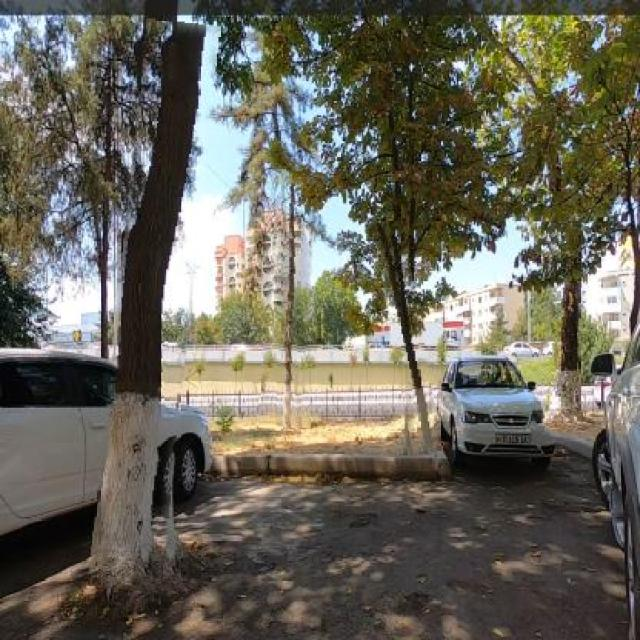tree trunk: (102, 19, 206, 592), (263, 170, 317, 432), (382, 219, 433, 458), (535, 225, 587, 437)
